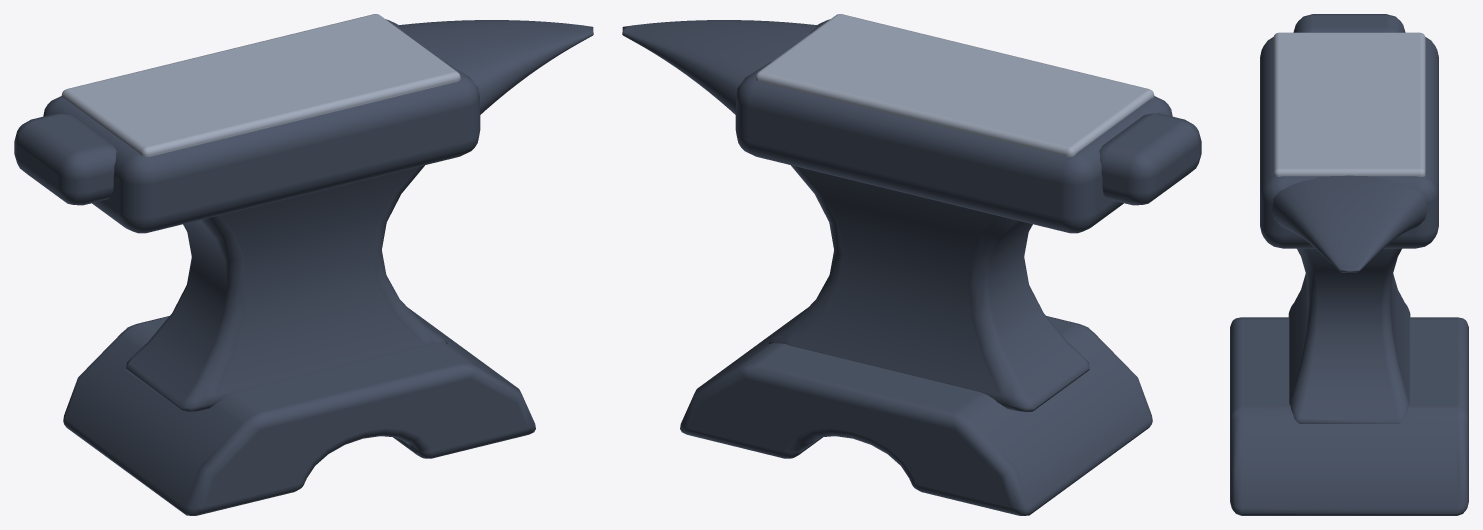
File: anvil.glb
The picture shows the model from 3 angles, left to right: view 1: azimuth 30°, elevation 25°; view 2: azimuth 150°, elevation 25°; view 3: azimuth 270°, elevation 25°; orthographic projection. The views are drawn at different scales.
Parts seen in each view (by area): view 1: anvil; view 2: anvil; view 3: anvil.
Boxes of the visible parts, x1=… form: anvil: x1=14, y1=14, x2=593, y2=515; anvil: x1=622, y1=14, x2=1201, y2=515; anvil: x1=1230, y1=14, x2=1468, y2=515.
Size of the model in its own units: 0.87 by 0.538 by 0.36.
